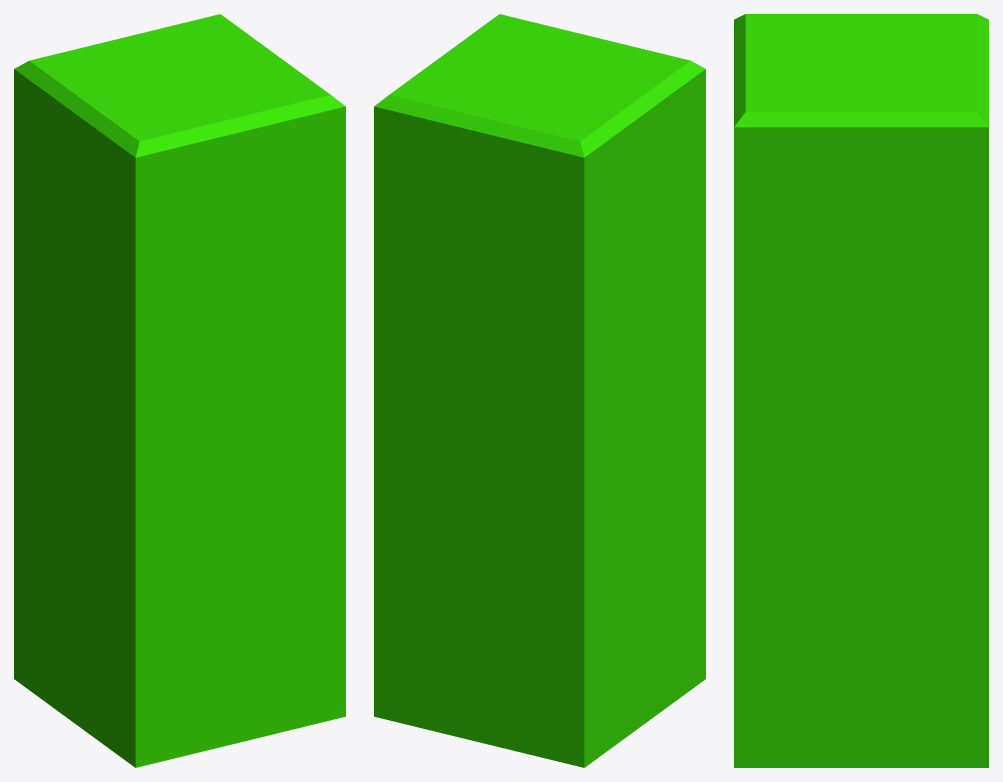
The model's file is basic_1x3.fbx.
3 renders of one model, left to right at view 1: azimuth 30°, elevation 25°; view 2: azimuth 150°, elevation 25°; view 3: azimuth 270°, elevation 25°, orthographic. The views are drawn at different scales.
Parts seen in each view (by area): view 1: basic_1x3; view 2: basic_1x3; view 3: basic_1x3.
Boxes of the visible parts, x1,y1,x2,y2 form: basic_1x3: (14,14,345,767); basic_1x3: (374,14,705,767); basic_1x3: (734,14,988,767).
Size of the model in its own units: 110 by 310 by 110.
